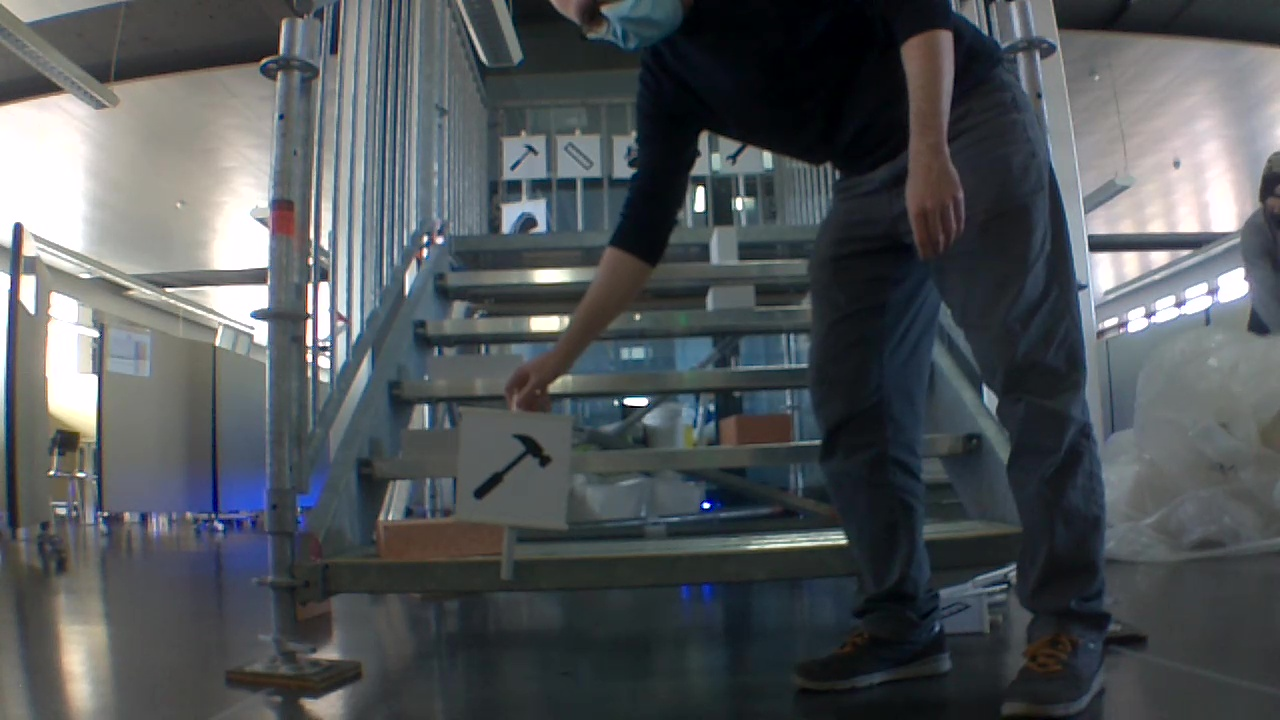brick: (379, 516, 503, 556), (429, 354, 522, 380), (720, 414, 790, 443), (402, 428, 459, 460), (705, 284, 754, 308), (711, 225, 738, 264)
hammer: (471, 426, 555, 510), (503, 139, 541, 174)
ruler: (562, 140, 595, 170)
taco: (507, 204, 542, 234)
